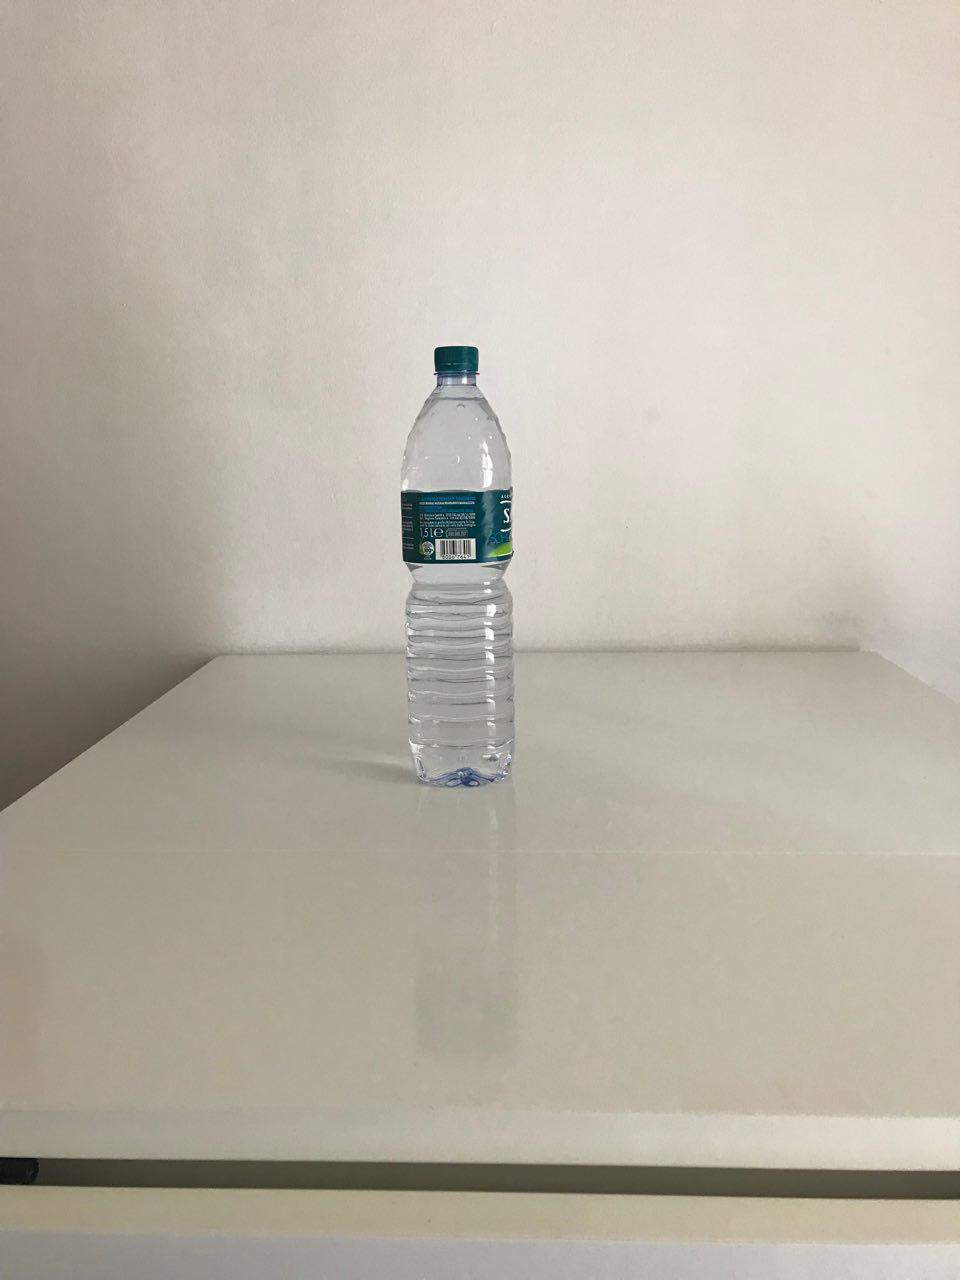san_bernardo: (399, 345, 516, 787)
